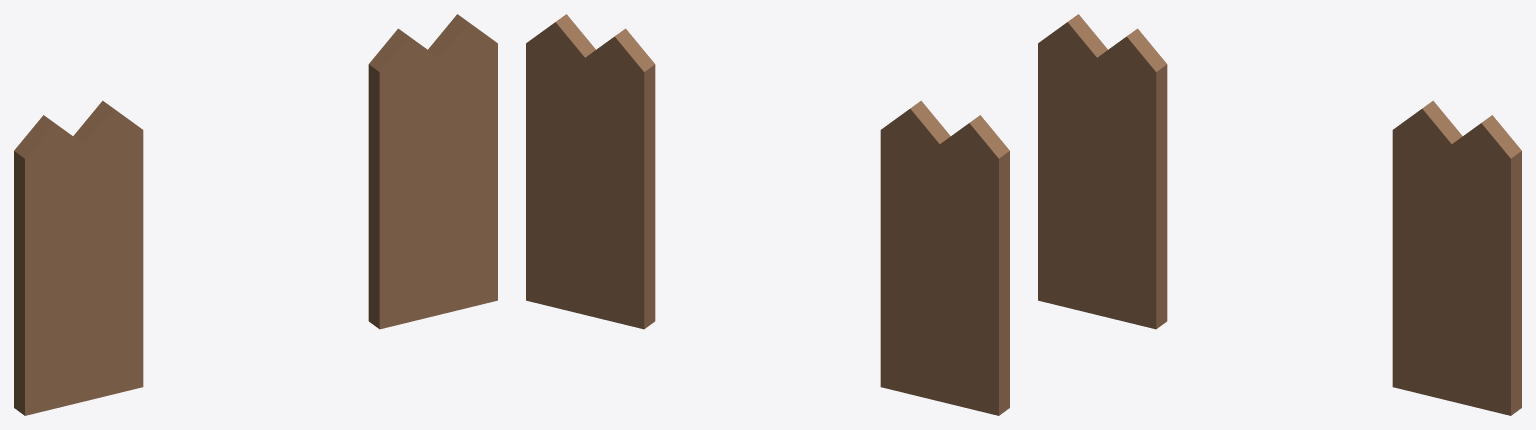
File: fence4.fbx
3 renders of one model, left to right at view 1: azimuth 30°, elevation 25°; view 2: azimuth 150°, elevation 25°; view 3: azimuth 330°, elevation 25°, orthographic.
Visible parts, largest first — view 1: Cylinder; view 2: Cylinder; view 3: Cylinder.
Part boxes in pixels (<box>): Cylinder: <box>14,14,497,415</box>; Cylinder: <box>526,14,1009,415</box>; Cylinder: <box>1038,14,1521,415</box>.
Size of the model in its own units: 1.73 by 1 by 0.07.
